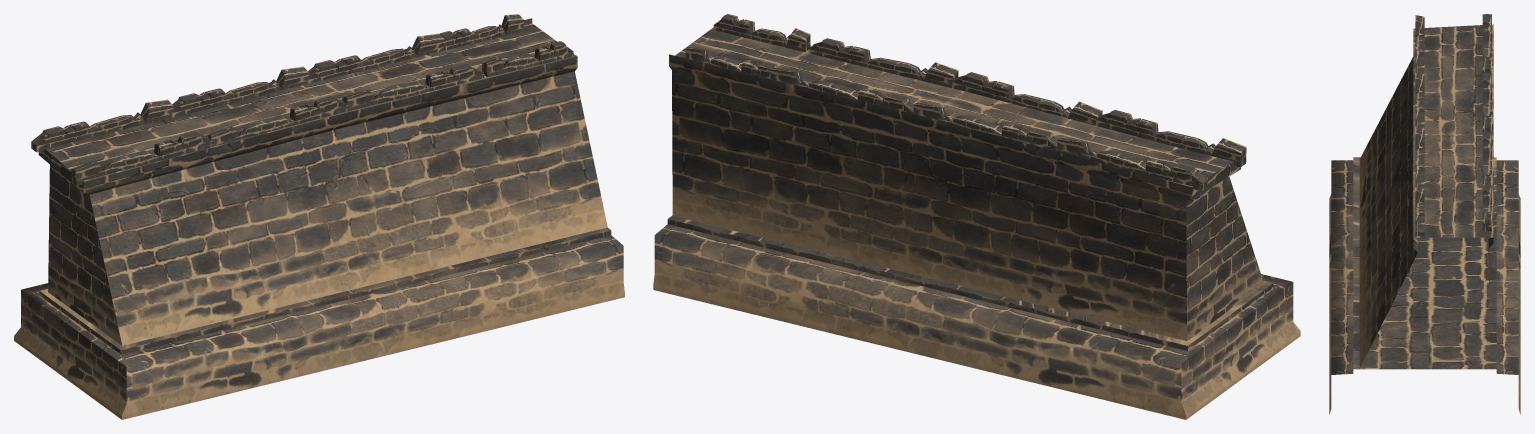
Rendered from sm_poqiang_1.FBX.
3 views of the same model, side by side, from view 1: azimuth 30°, elevation 25°; view 2: azimuth 150°, elevation 25°; view 3: azimuth 270°, elevation 25° (orthographic). The views are drawn at different scales.
Visible parts, largest first — view 1: sm_poqiang_1; view 2: sm_poqiang_1; view 3: sm_poqiang_1.
Boxes of the visible parts, x1,y1,x2,y2 form: sm_poqiang_1: (14, 14, 624, 419); sm_poqiang_1: (653, 14, 1300, 419); sm_poqiang_1: (1329, 14, 1520, 414).
Size of the model in its own units: 2776 by 1170 by 1032.
